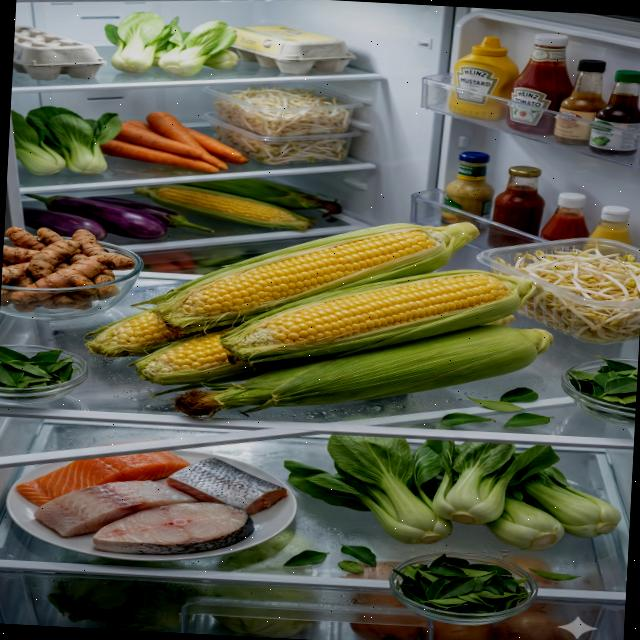bean_sprouts: (490, 234, 640, 344), (213, 84, 352, 170)
carrot: (100, 109, 252, 174)
corn: (79, 202, 560, 438), (132, 172, 344, 234)
curry_leaves: (390, 552, 535, 618), (564, 354, 638, 426), (0, 345, 81, 404), (337, 544, 378, 576)
egg: (229, 22, 359, 78), (12, 25, 110, 84)
eggplant: (21, 194, 217, 248)
fish: (12, 444, 290, 562)
pakchoy: (280, 432, 626, 556), (101, 10, 243, 80), (7, 104, 124, 180)
turmeric: (0, 225, 137, 318)
